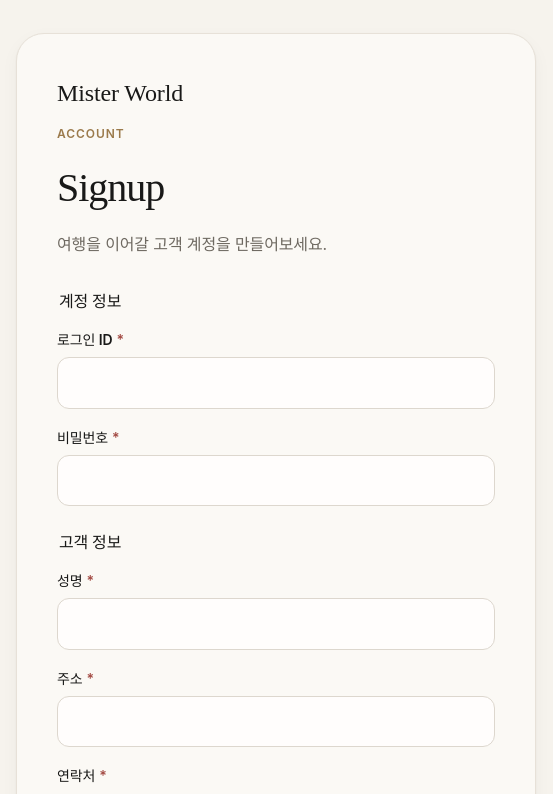
Test case: SignupPage › maps duplicate loginId by stable code and preserves all form input
Type "customer-01" into the field labelled "로그인 ID *".
click(276, 383); type("customer-01")  # box [57, 357, 495, 409]
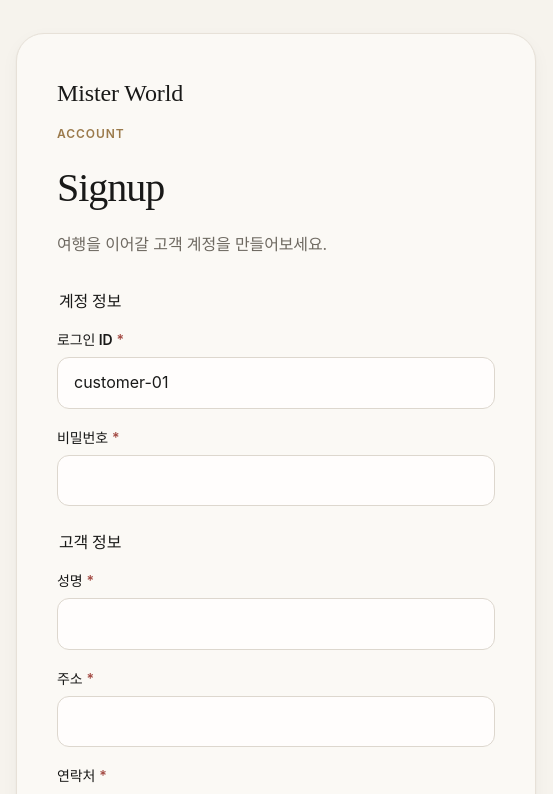
Type "secret-input" into the password field labelled "비밀번호 *".
click(276, 480); type("secret-input")  # box [57, 455, 495, 506]
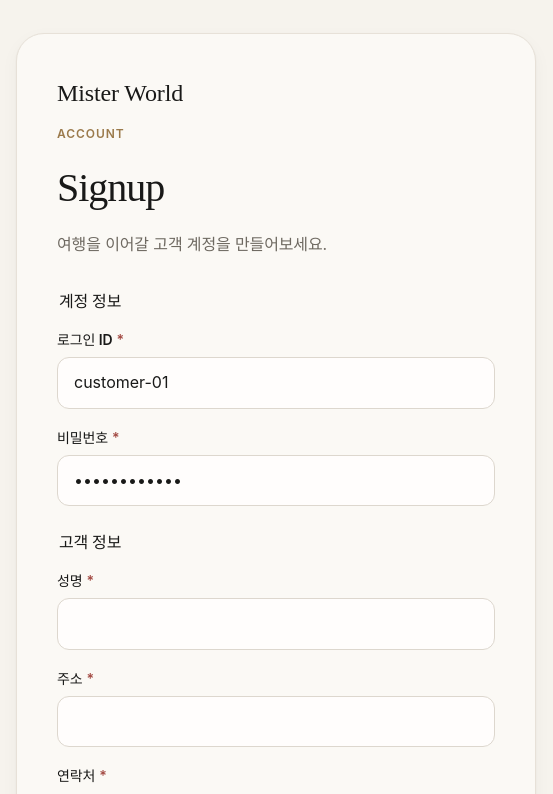
Type "Test Customer" into the field labelled "성명 *".
click(276, 624); type("Test Customer")  # box [57, 598, 495, 650]
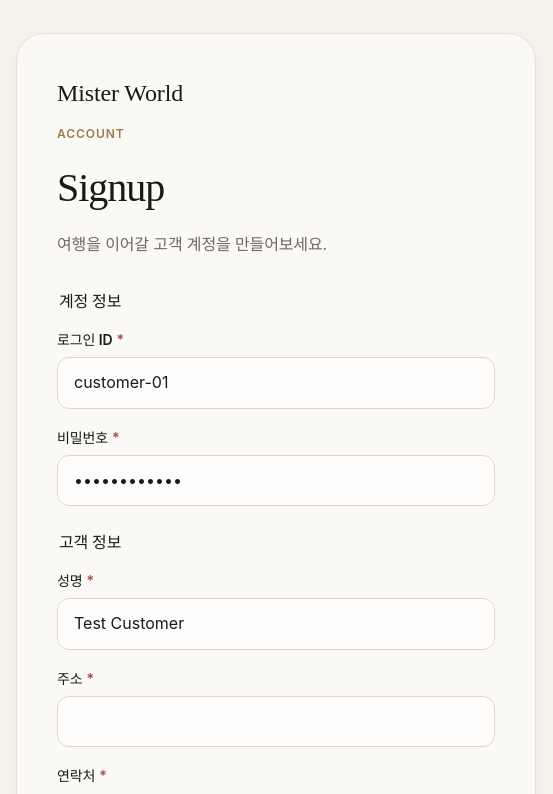
Type "Seoul address" into the field labelled "주소 *".
click(276, 722); type("Seoul address")  # box [57, 696, 495, 748]
(page scrolled)
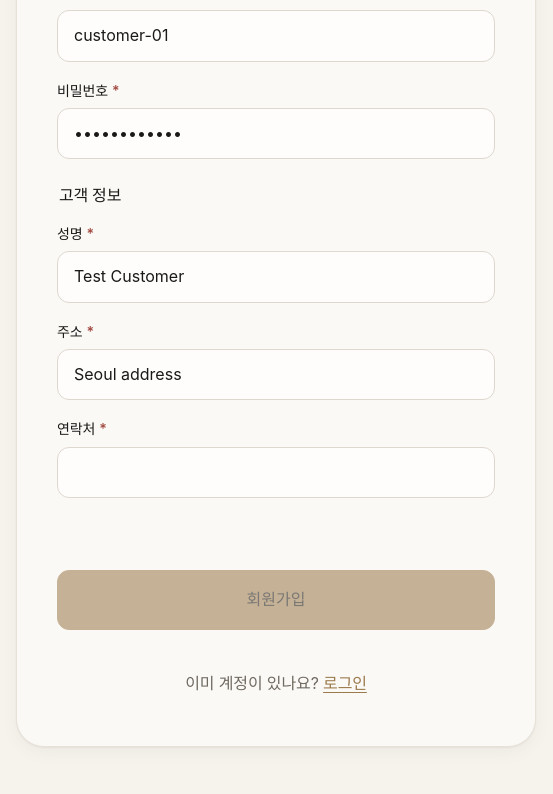
Type "010-0000-0000" into the field labelled "연락처 *".
click(276, 472); type("010-0000-0000")  # box [57, 447, 495, 498]
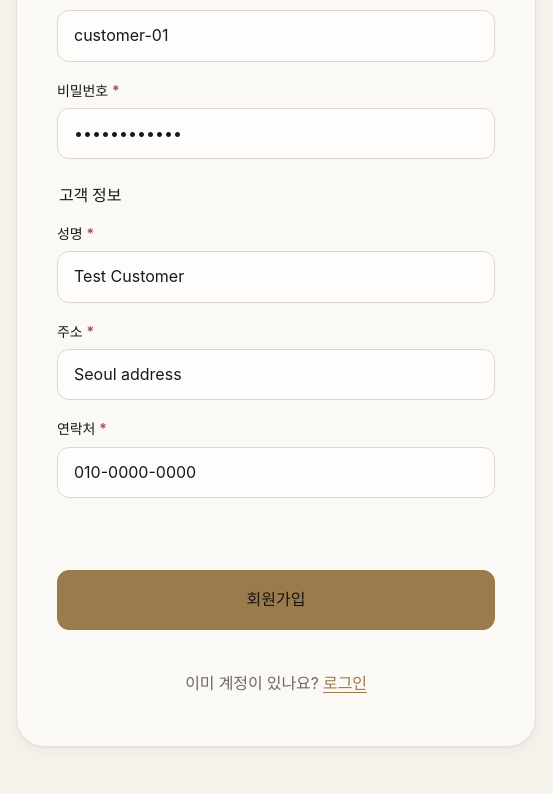
Click the button "회원가입".
click(276, 600)  # box [57, 570, 495, 630]
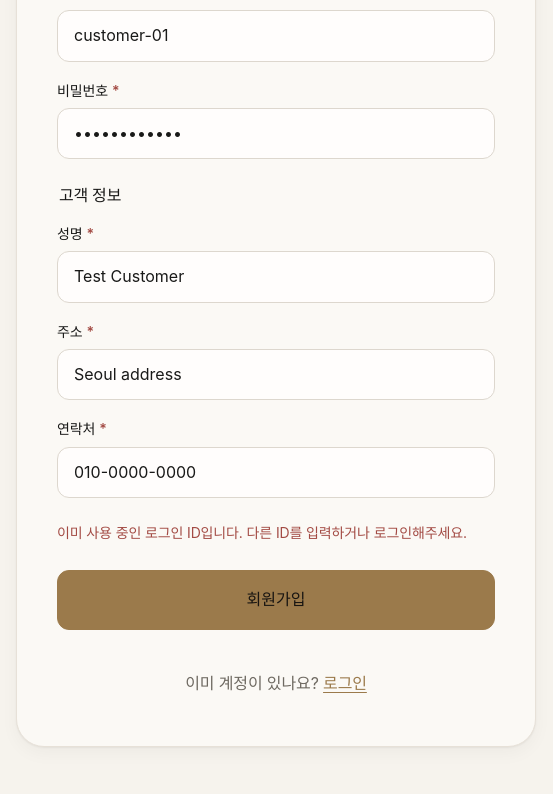
Check: the button "회원가입" is enabled, box [57, 570, 495, 630]
Check: the message reads "이미 사용 중인 로그인 ID입니다. 다른 ID를 입력하거나 로그인해주세요.", box [57, 524, 467, 541]
